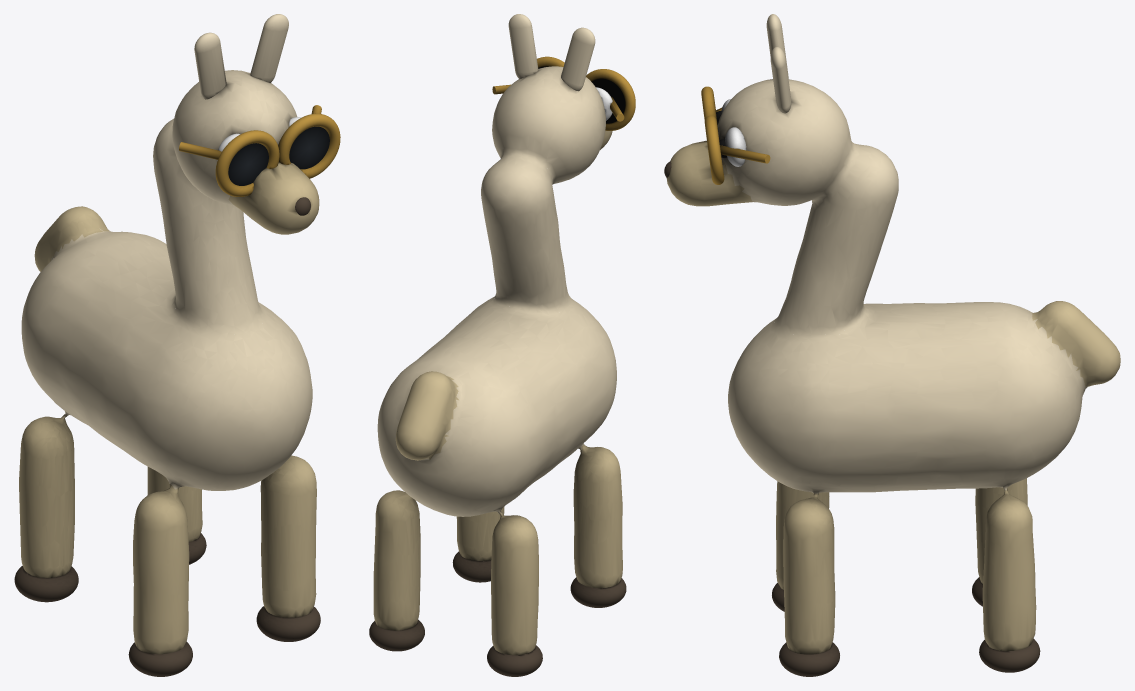
File: ar-taget-forsenat-eller-installt.glb
3 views of the same model, side by side, from view 1: azimuth 30°, elevation 25°; view 2: azimuth 150°, elevation 25°; view 3: azimuth 270°, elevation 25° (orthographic). The views are drawn at different scales.
Visible parts, largest first — view 1: lhama__r0, lhama__r5, lhama__r11, lhama__r14, lhama__r8, lhama__r1, lhama__r17, lhama__r15, lhama__r12, lhama__r6; view 2: lhama__r0, lhama__r14, lhama__r8, lhama__r1, lhama__r16, lhama__r15, lhama__r5, lhama__r17, lhama__r6; view 3: lhama__r0, lhama__r17, lhama__r16, lhama__r14, lhama__r11.
Part boxes in pixels (bbox=[...]): lhama__r0: bbox=[19, 70, 319, 654]; lhama__r5: bbox=[215, 130, 279, 196]; lhama__r11: bbox=[278, 113, 340, 178]; lhama__r14: bbox=[250, 14, 288, 82]; lhama__r8: bbox=[194, 32, 226, 99]; lhama__r1: bbox=[14, 566, 78, 602]; lhama__r17: bbox=[256, 606, 320, 641]; lhama__r15: bbox=[128, 641, 192, 676]; lhama__r12: bbox=[289, 126, 329, 169]; lhama__r6: bbox=[228, 143, 268, 185]; lhama__r0: bbox=[373, 66, 622, 655]; lhama__r14: bbox=[508, 14, 538, 78]; lhama__r8: bbox=[561, 27, 595, 91]; lhama__r1: bbox=[487, 645, 542, 676]; lhama__r16: bbox=[369, 619, 424, 651]; lhama__r15: bbox=[570, 577, 626, 607]; lhama__r5: bbox=[586, 69, 635, 130]; lhama__r17: bbox=[452, 551, 491, 582]; lhama__r6: bbox=[592, 78, 625, 123]; lhama__r0: bbox=[666, 79, 1120, 654]; lhama__r17: bbox=[779, 642, 839, 676]; lhama__r16: bbox=[979, 638, 1040, 672]; lhama__r14: bbox=[770, 47, 791, 113]; lhama__r11: bbox=[704, 115, 724, 184].
Size of the model in its own units: 0.3875 by 1.21 by 0.8202.
